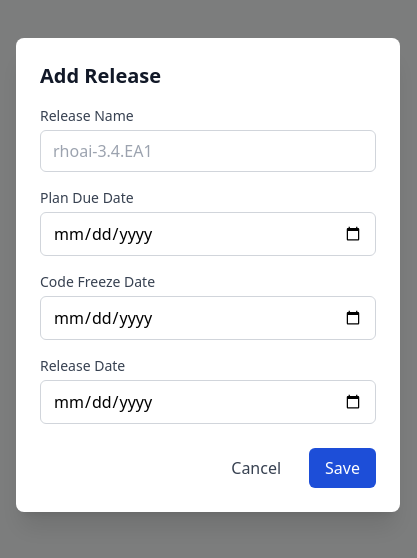
Test: ReleaseModal › shows validation error when release name does not match pattern
The width and height of the screenshot is (417, 558).
Type "invalid-name" into the field with test id "release-name-input" at (208, 151), box [40, 130, 376, 172]
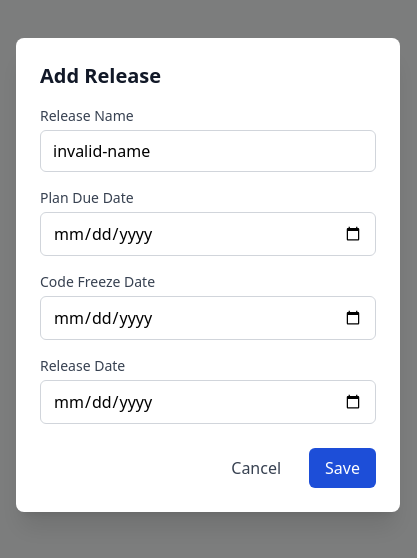
Submit the form, box [40, 106, 376, 488]
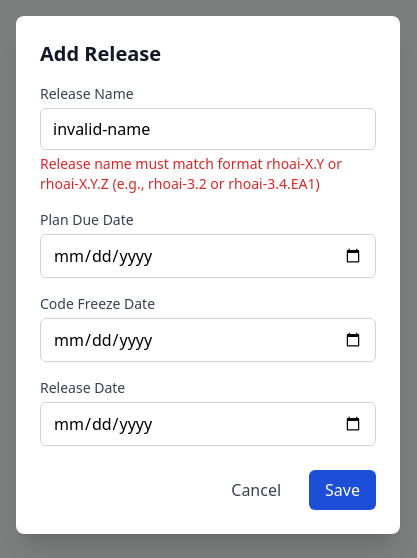
Now the text with test id "name-error" is shown, box [40, 154, 376, 194]
Now the text with test id "name-error" shows "rhoai-X.Y", box [40, 154, 342, 193]
